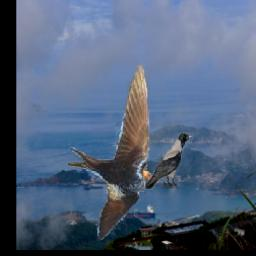Crow: (145, 133, 194, 190)
Swallow: (67, 65, 157, 242)
